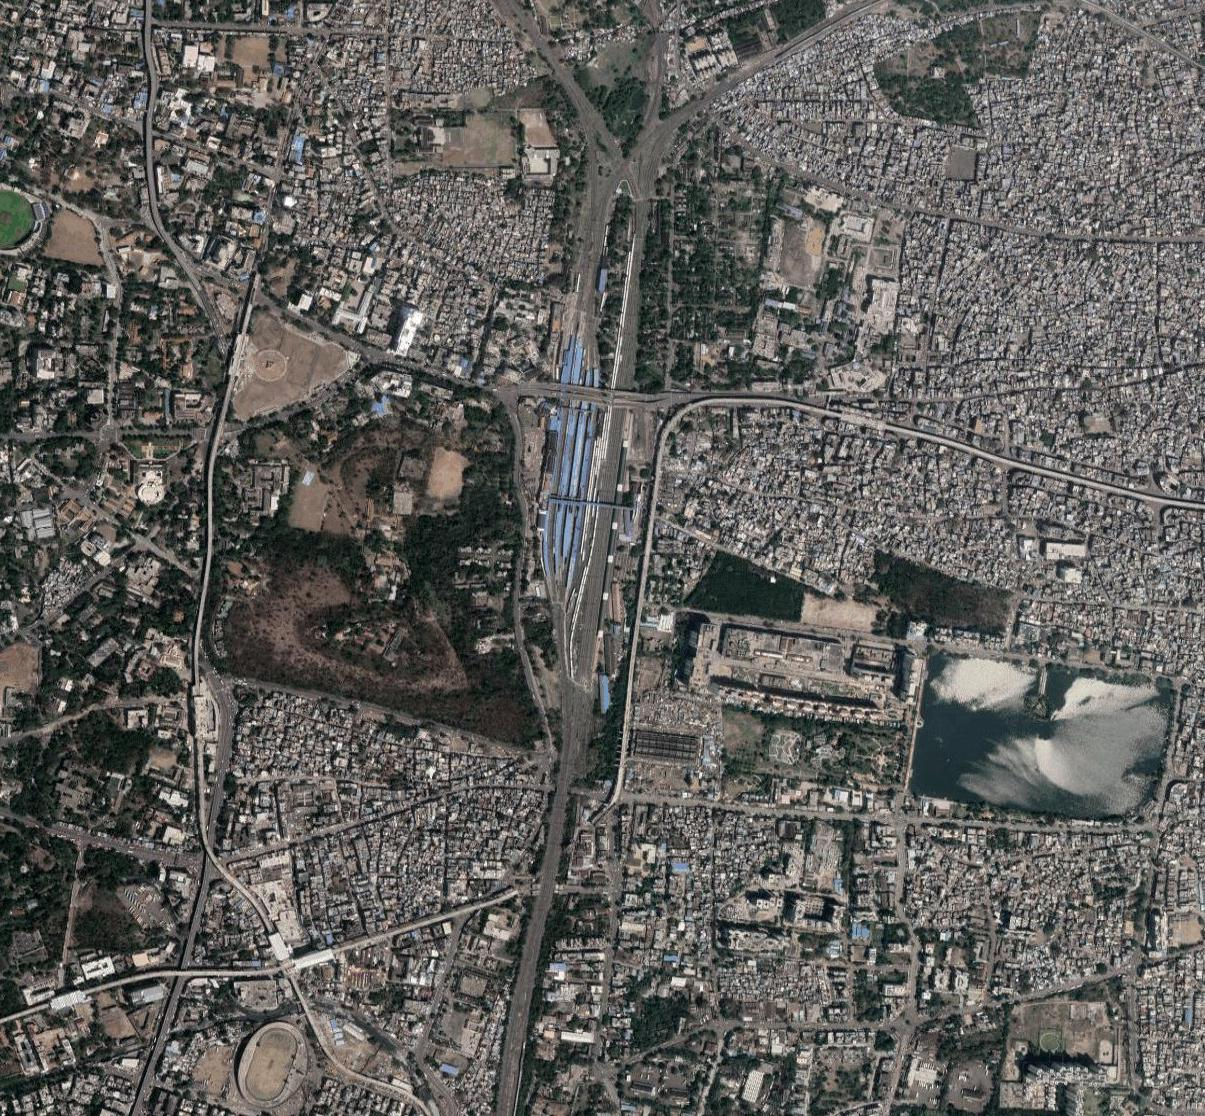bridge: (540, 380, 621, 407)
train_station: (526, 318, 650, 608)
